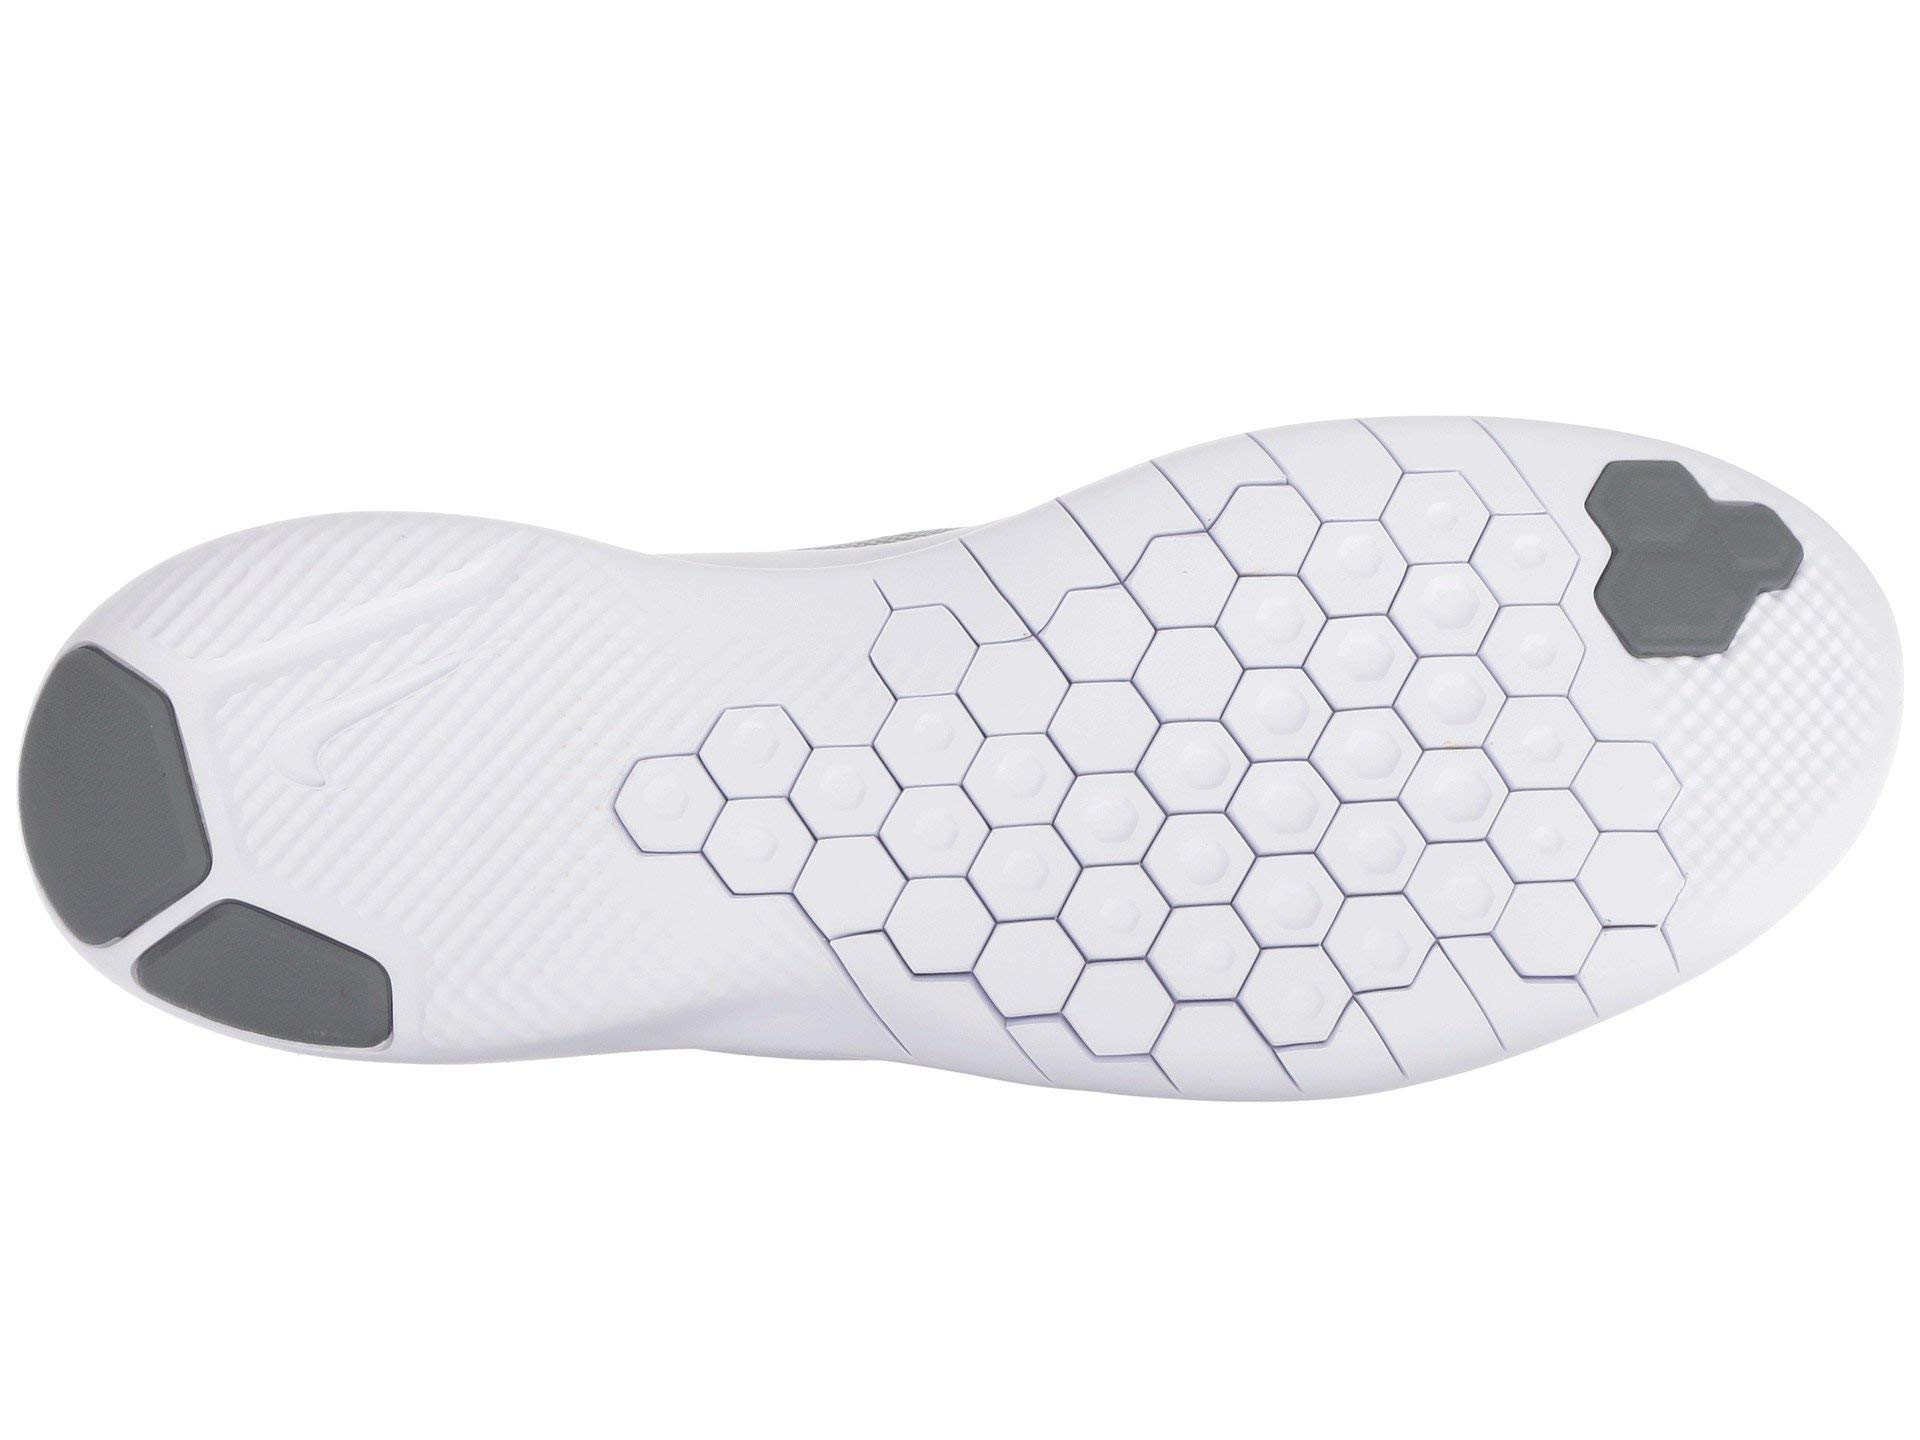chevron: (245, 619, 618, 889)
line: (245, 619, 618, 889)
polygon: (892, 573, 1488, 1045)
